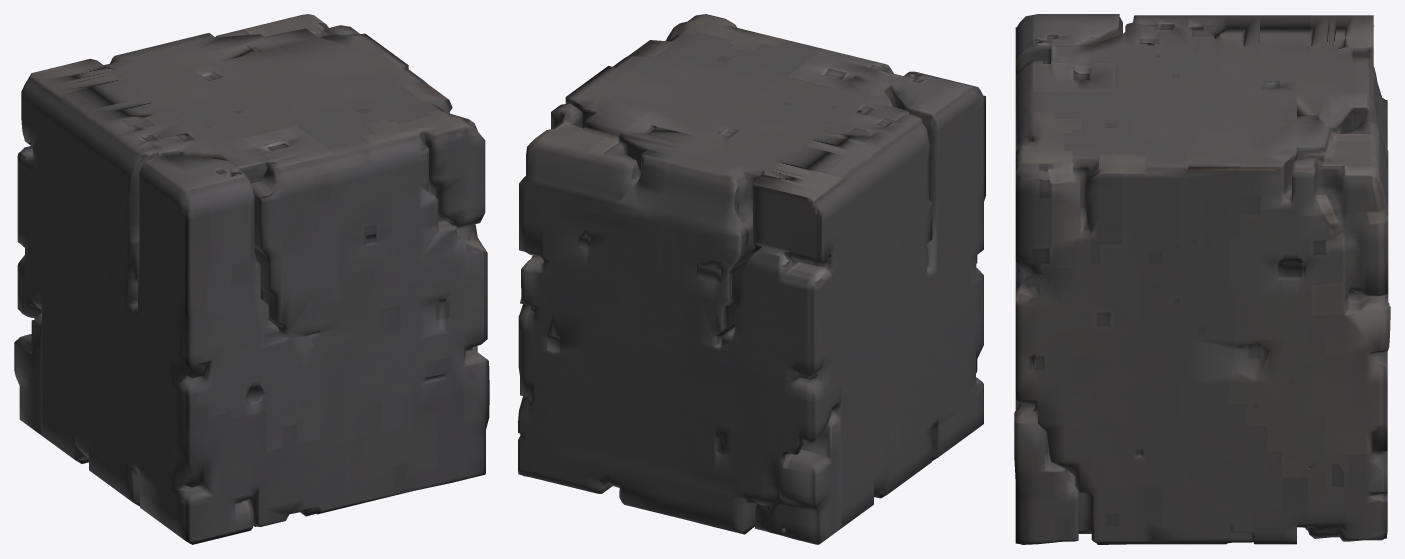
File: wall_1m.glb
3 renders of one model, left to right at view 1: azimuth 30°, elevation 25°; view 2: azimuth 150°, elevation 25°; view 3: azimuth 270°, elevation 25°, orthographic. The views are drawn at different scales.
Parts seen in each view (by area): view 1: tripo_node_1c1c33e5-deb1-46b3-9f5b-e677a267dea1; view 2: tripo_node_1c1c33e5-deb1-46b3-9f5b-e677a267dea1; view 3: tripo_node_1c1c33e5-deb1-46b3-9f5b-e677a267dea1.
Boxes of the visible parts, x1,y1,x2,y2 form: tripo_node_1c1c33e5-deb1-46b3-9f5b-e677a267dea1: (14,14,489,544); tripo_node_1c1c33e5-deb1-46b3-9f5b-e677a267dea1: (518,14,985,544); tripo_node_1c1c33e5-deb1-46b3-9f5b-e677a267dea1: (1014,14,1390,544).
Bounding box in the file's own units: 0.9022 × 1 × 0.9022.
1 material, 1 textured.
